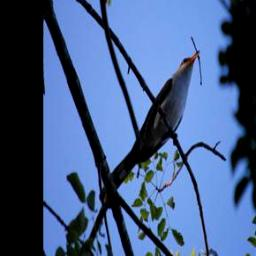Cuckoo: (111, 47, 202, 184)
